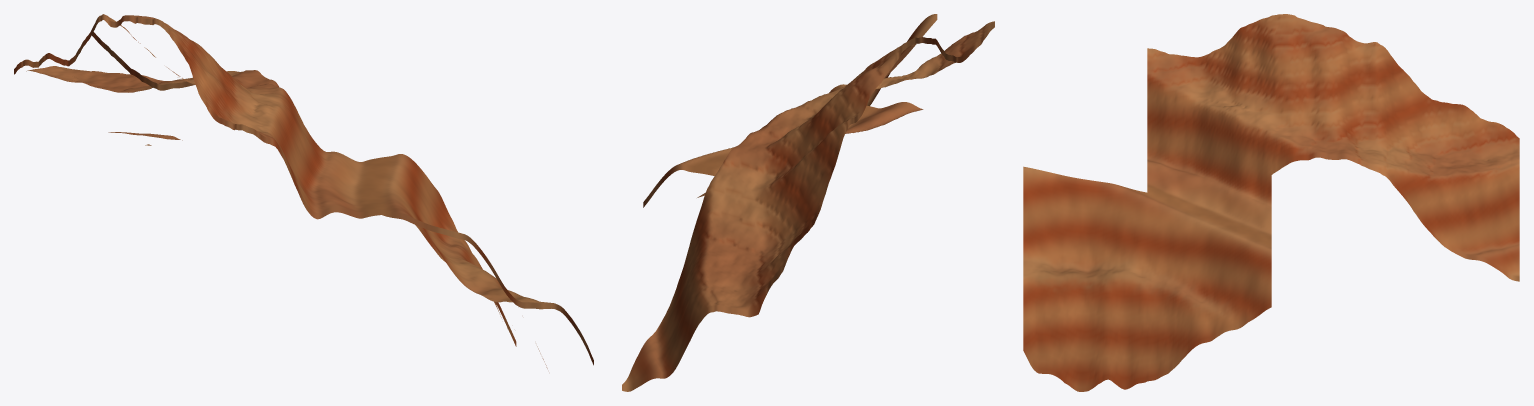
The model's file is terrain-004.glb.
3 views of the same model, side by side, from view 1: azimuth 30°, elevation 25°; view 2: azimuth 150°, elevation 25°; view 3: azimuth 270°, elevation 25° (orthographic). The views are drawn at different scales.
Visible parts, largest first — view 1: terrain-004; view 2: terrain-004; view 3: terrain-004.
Part boxes in pixels (x1,y1,x2,y2): terrain-004: (14,14,593,368); terrain-004: (622,14,994,391); terrain-004: (1023,14,1519,391).
Bounding box in the file's own units: 192 × 233 × 384.
